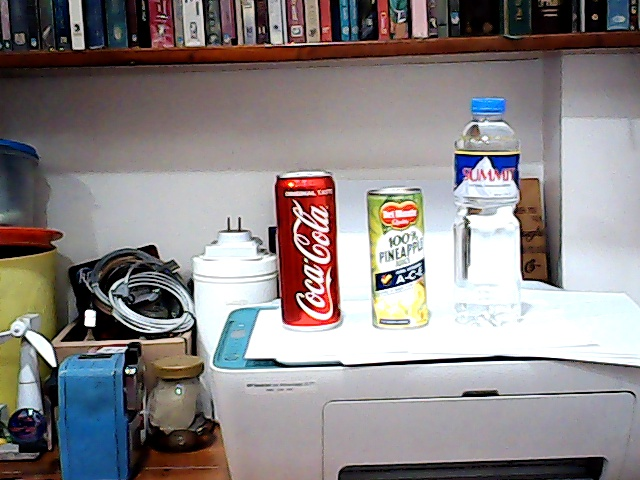Cola: (270, 172, 348, 338)
Pine Juice: (363, 178, 435, 334)
Summit Water: (447, 95, 528, 326)
